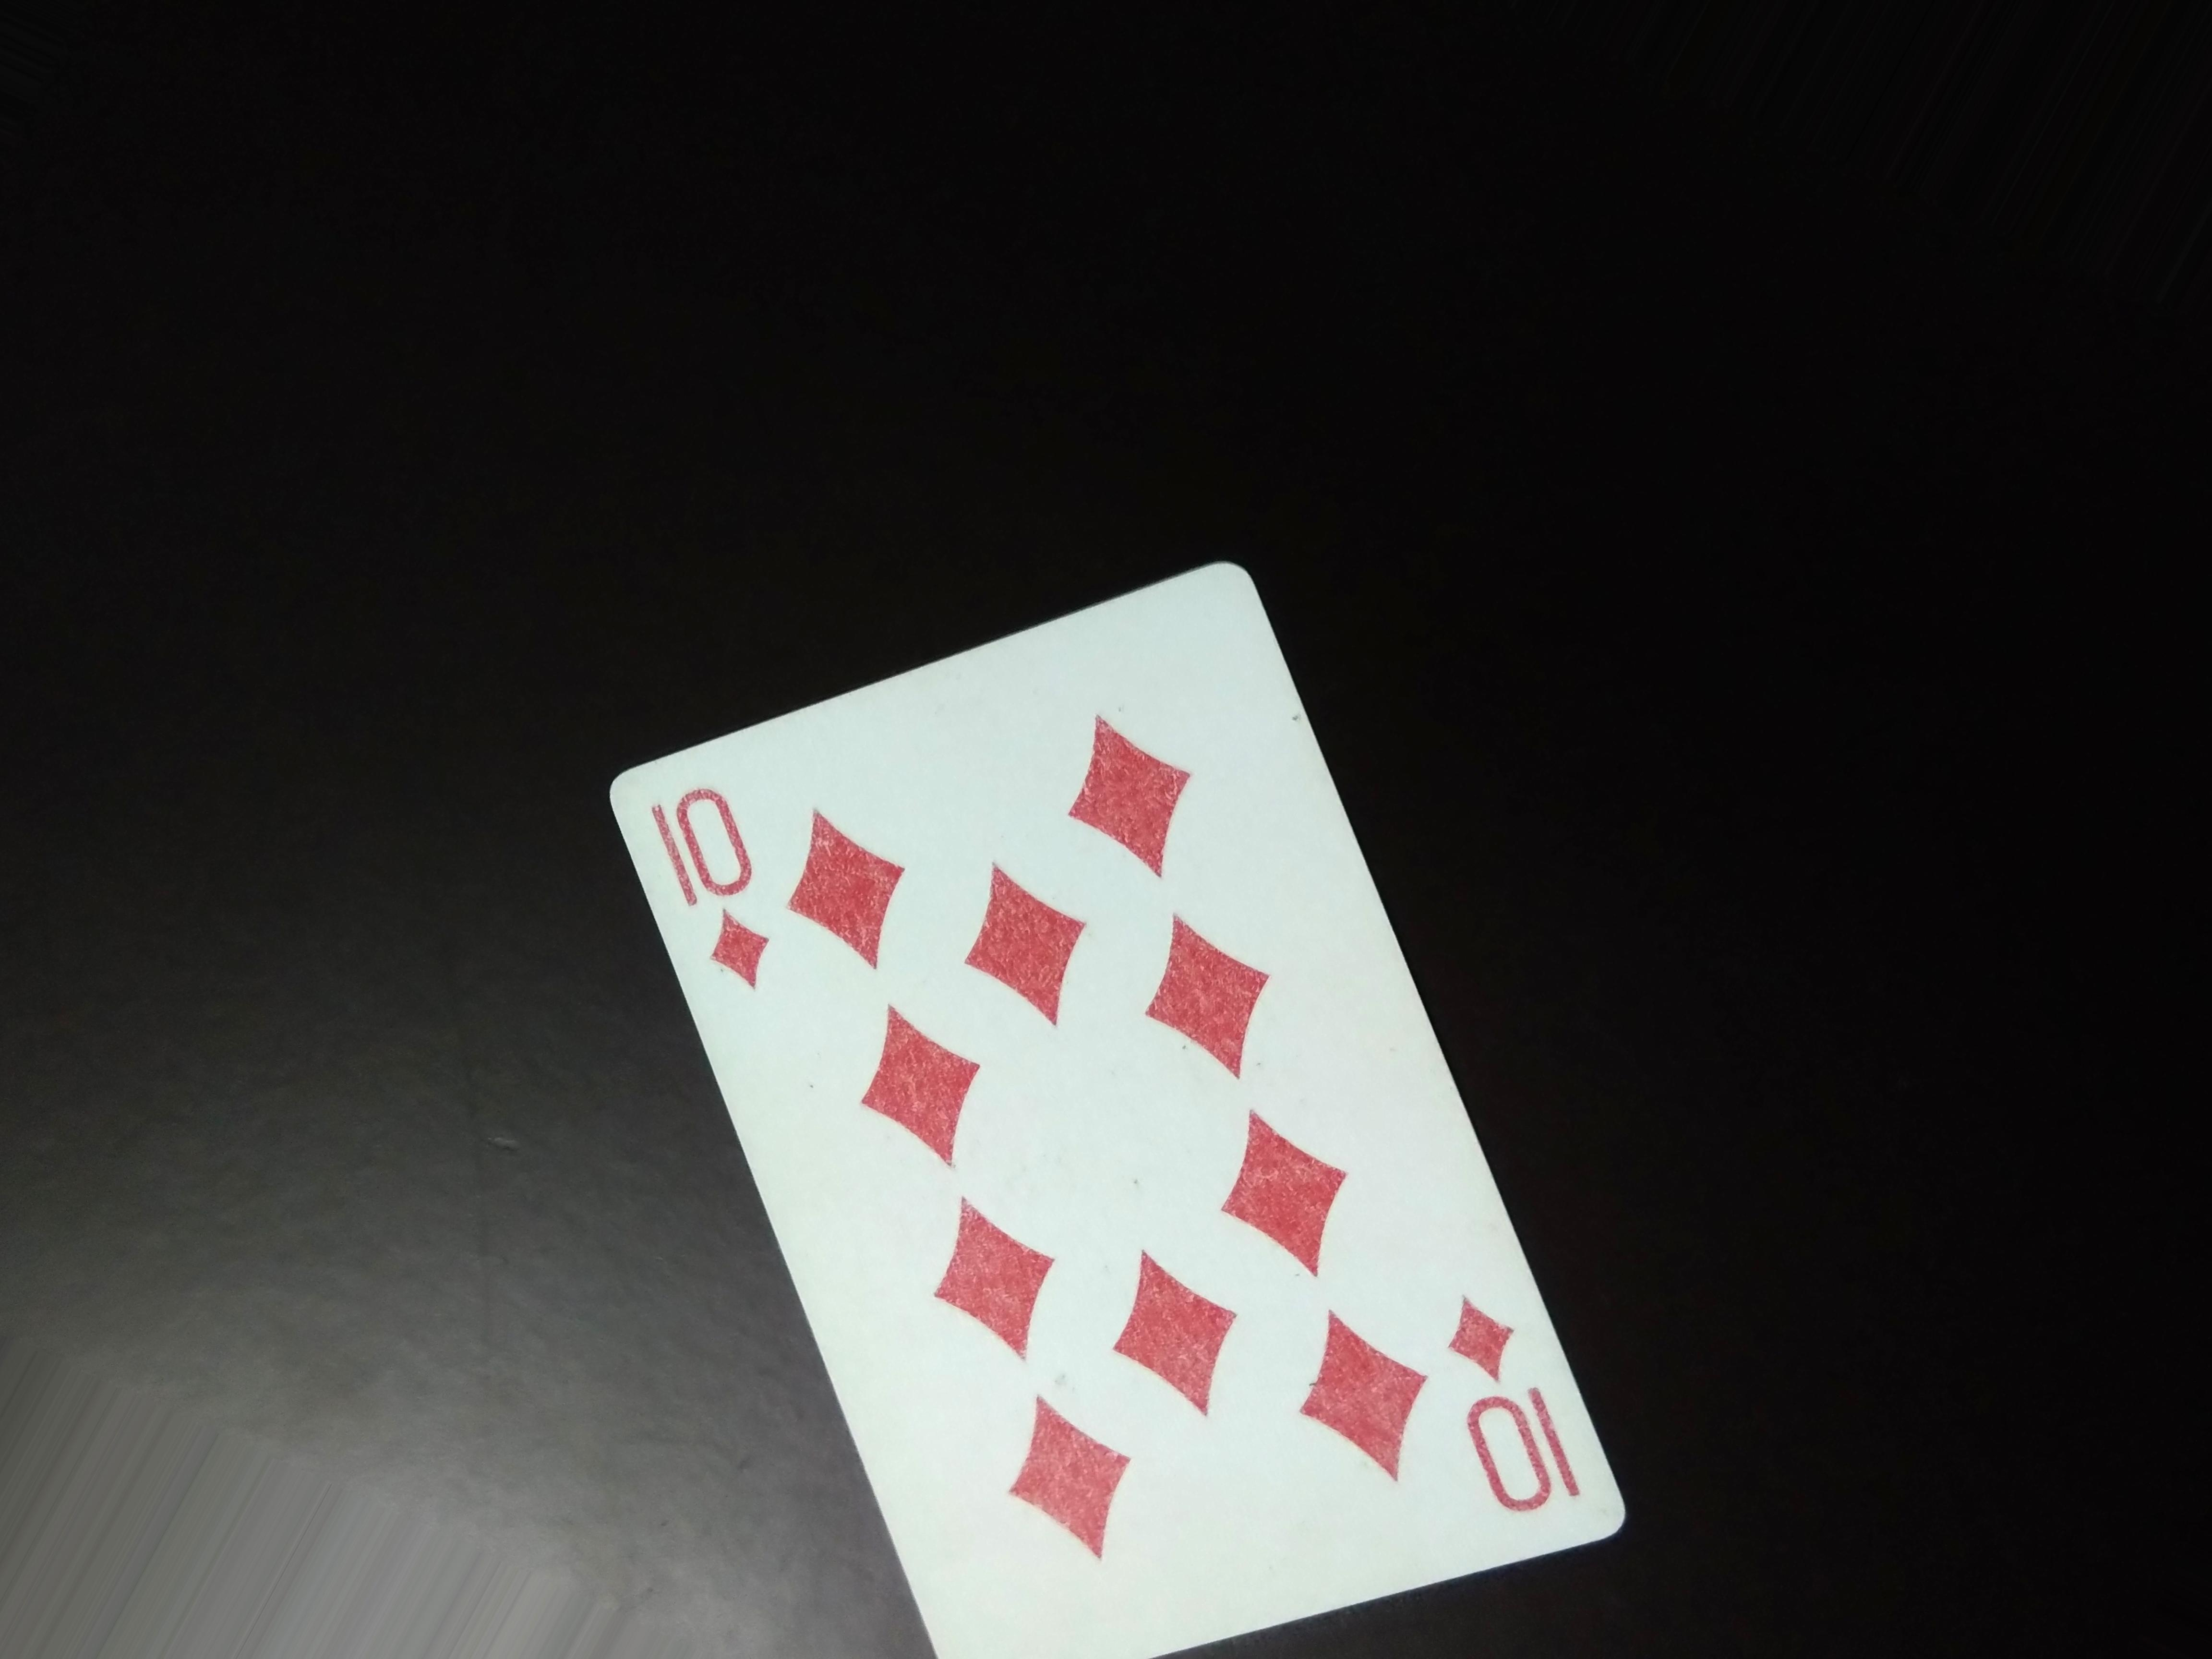10D: (1439, 1286, 1588, 1525)
